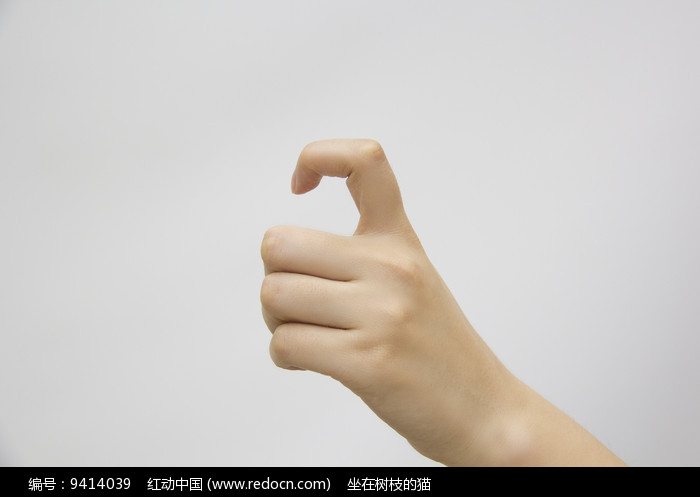no-phone: (234, 123, 559, 464)
